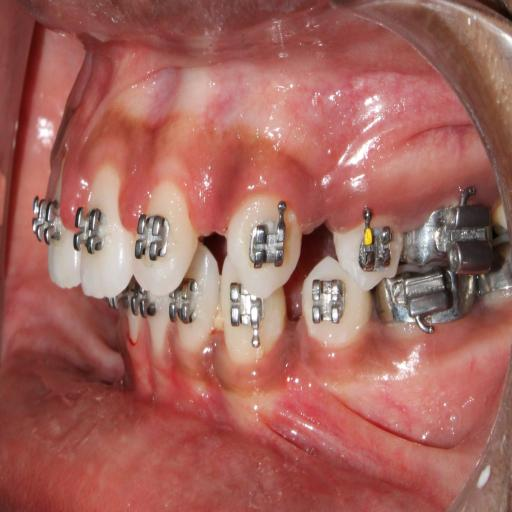correct_brace: (300, 256, 372, 353), (332, 210, 403, 288), (248, 214, 290, 277), (72, 202, 107, 257), (135, 209, 168, 266)
incorrect_brace: (136, 178, 200, 296), (356, 220, 397, 278), (308, 275, 350, 328)
